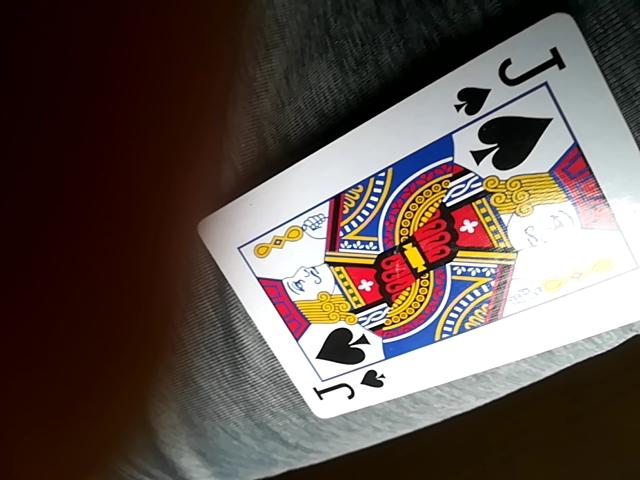ht j: (201, 16, 639, 429)
